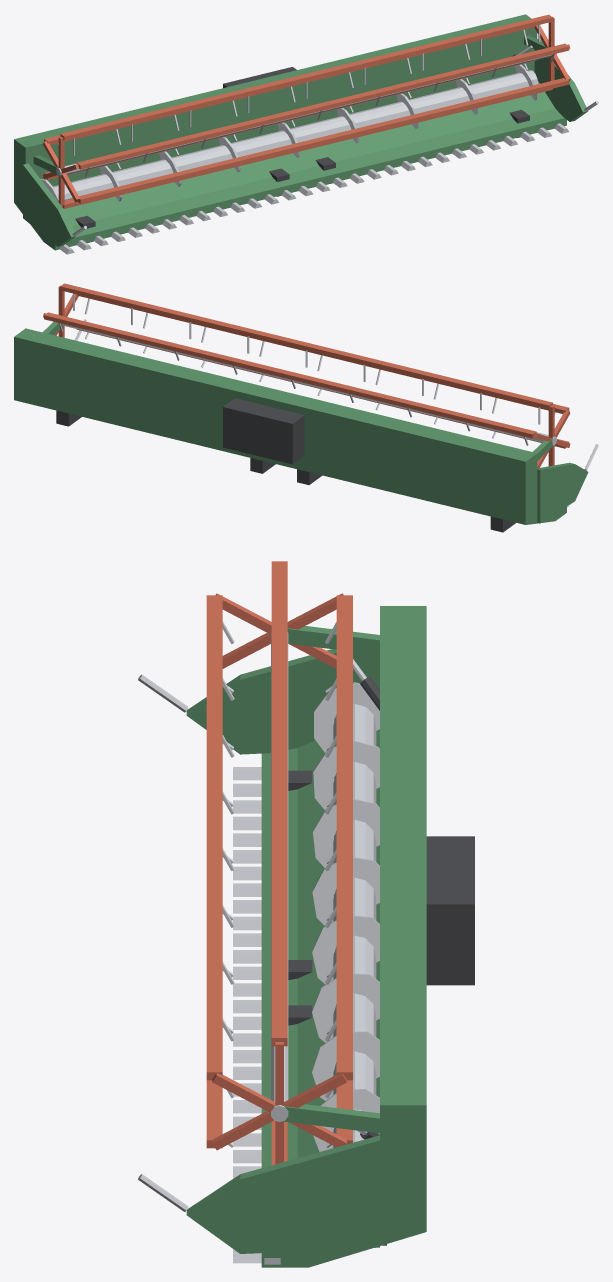
The model's file is arable-fields-and-farm-machinery-grain-header-fe9467f1__16847.glb.
3 views of the same model, one above another, from view 1: azimuth 30°, elevation 25°; view 2: azimuth 150°, elevation 25°; view 3: azimuth 270°, elevation 25° (orthographic). The views are drawn at different scales.
Visible parts, largest first — view 1: grain-header, reel/accent, reel/steel; view 2: grain-header, reel/accent, reel/steel; view 3: grain-header, reel/accent, reel/steel.
Part boxes in pixels (bbox=[...]): grain-header: bbox=[14, 14, 598, 254]; reel/accent: bbox=[43, 14, 570, 208]; reel/steel: bbox=[56, 25, 556, 177]; grain-header: bbox=[14, 319, 598, 532]; reel/accent: bbox=[43, 283, 570, 468]; reel/steel: bbox=[58, 293, 556, 445]; grain-header: bbox=[138, 606, 474, 1267]; reel/accent: bbox=[206, 561, 352, 1165]; reel/steel: bbox=[222, 621, 336, 1147].
Bounding box in the file's own units: 6.67 × 1.4 × 1.88.
